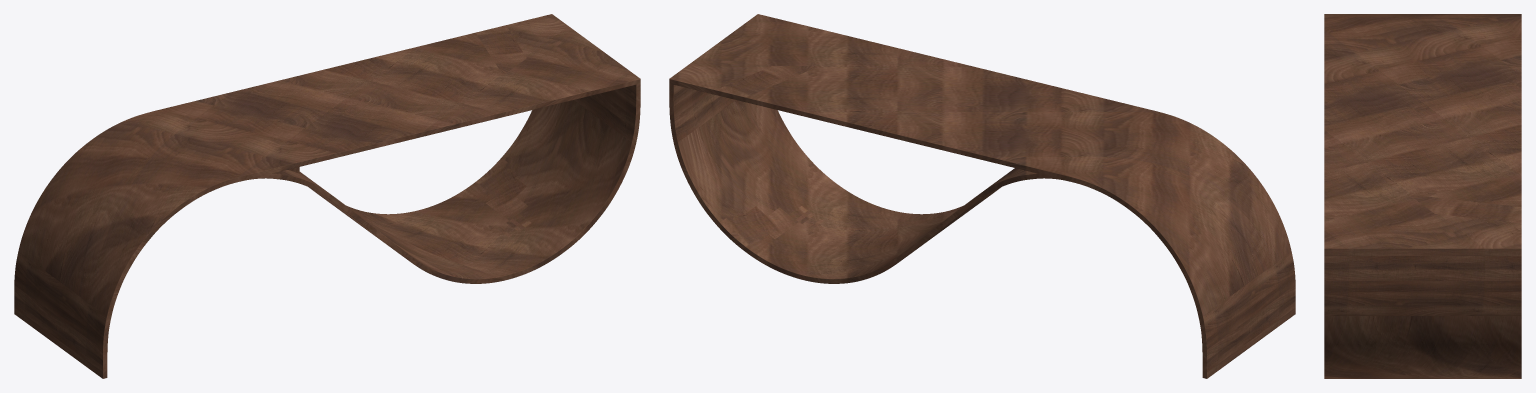
Rendered from table.obj.
3 renders of one model, left to right at view 1: azimuth 30°, elevation 25°; view 2: azimuth 150°, elevation 25°; view 3: azimuth 270°, elevation 25°, orthographic. The views are drawn at different scales.
Visible parts, largest first — view 1: table_009; view 2: table_009; view 3: table_009.
Part boxes in pixels (x1,y1,x2,y2): table_009: (14, 14, 640, 378); table_009: (669, 14, 1295, 378); table_009: (1324, 14, 1521, 378).
Size of the model in its own units: 1399 by 420 by 400.
Materials: 1 (1 with a texture image).
